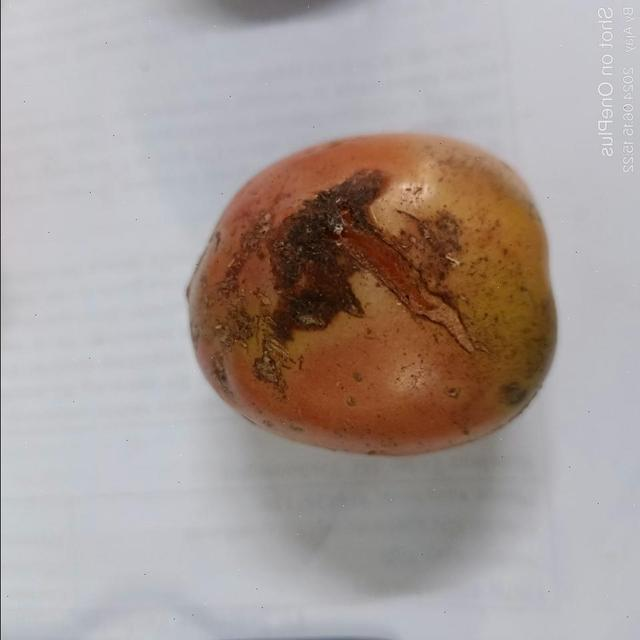Cracking Fruit: (180, 134, 252, 173)
